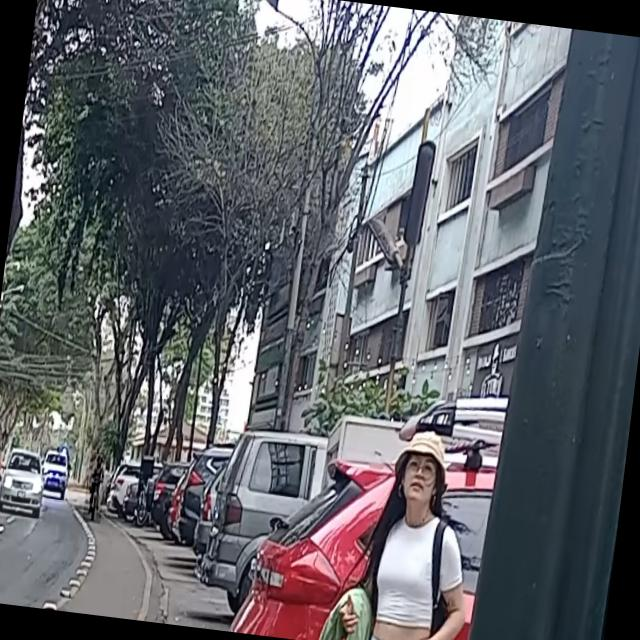bicycle: (82, 451, 108, 524)
car: (0, 444, 50, 520), (37, 445, 73, 502)
